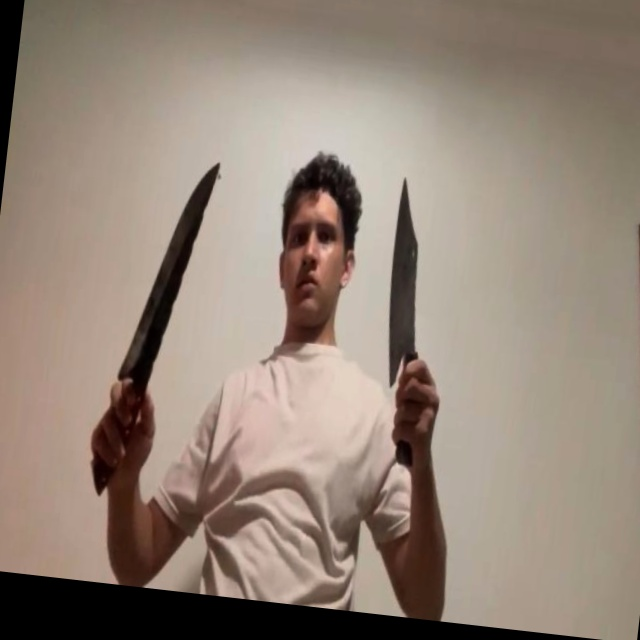Sharp-Object: (121, 154, 221, 387), (378, 179, 435, 389)
